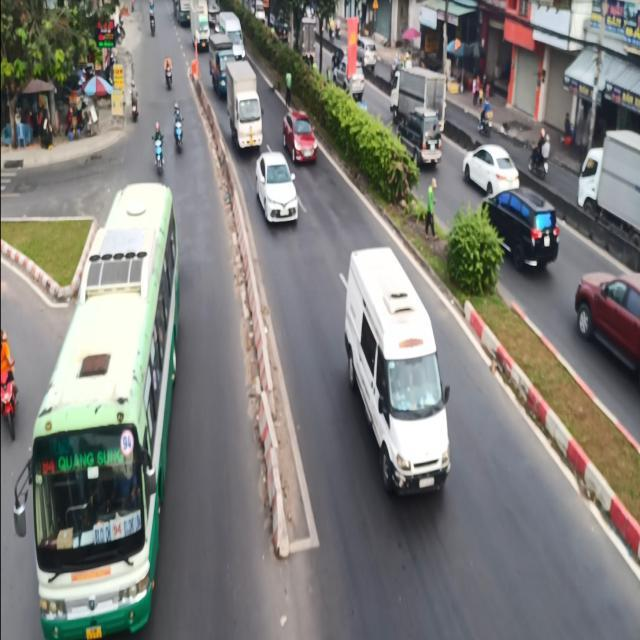bus: (13, 181, 180, 639)
car: (342, 245, 451, 497), (479, 190, 575, 272), (573, 271, 639, 380), (248, 146, 310, 220), (454, 142, 526, 201), (397, 108, 443, 172), (280, 105, 321, 163)
motorcycle: (1, 369, 22, 436), (151, 141, 167, 178), (173, 121, 188, 155), (128, 103, 142, 123)
person: (0, 320, 21, 380), (424, 177, 438, 238), (130, 81, 142, 103), (153, 121, 164, 140), (175, 105, 182, 123)
truck: (580, 126, 640, 229), (218, 62, 276, 152), (383, 62, 450, 130)
